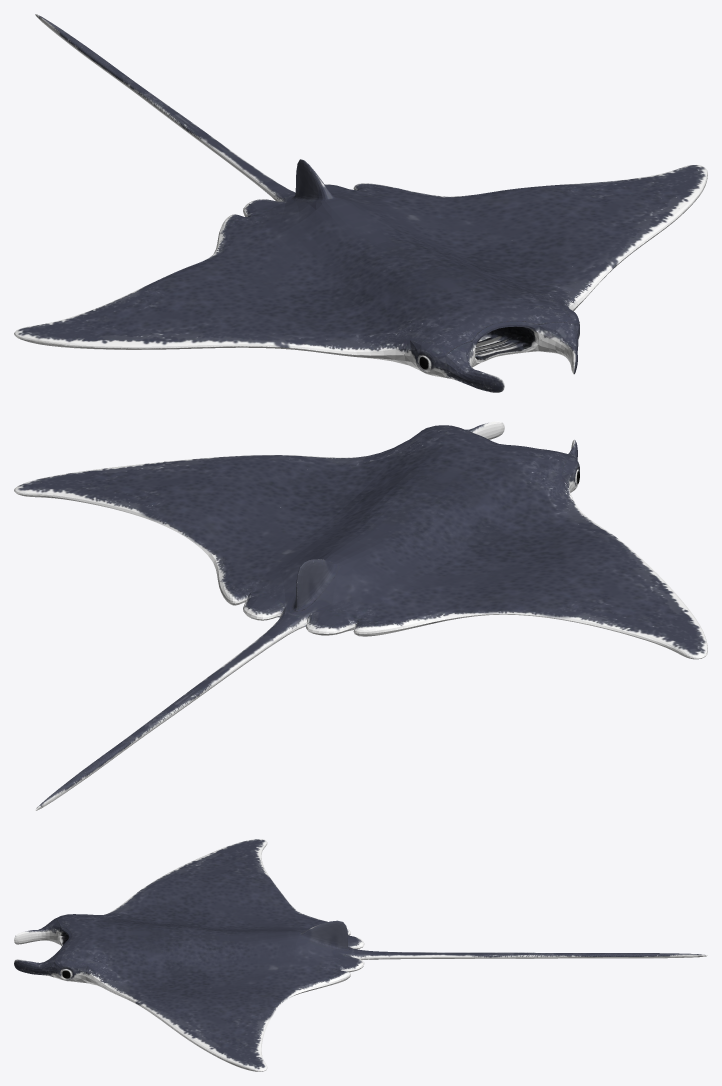
File: Mantaray.fbx
3 renders of one model, top to bottom at view 1: azimuth 30°, elevation 25°; view 2: azimuth 150°, elevation 25°; view 3: azimuth 270°, elevation 25°, orthographic. The views are drawn at different scales.
Parts seen in each view (by area): view 1: Object_TexMap_0; view 2: Object_TexMap_0; view 3: Object_TexMap_0.
Boxes of the visible parts, x1,y1,x2,y2 form: Object_TexMap_0: (14, 14, 707, 392); Object_TexMap_0: (14, 421, 707, 810); Object_TexMap_0: (14, 839, 707, 1071).
Size of the model in its own units: 1.97 by 0.1996 by 2.5.
1 material, 1 textured.
